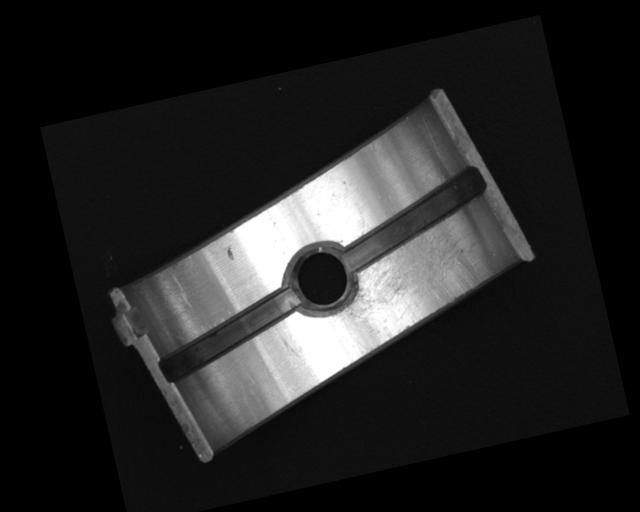bruise: (223, 245, 235, 263)
gap: (331, 163, 495, 272), (149, 287, 310, 385)
hole: (277, 234, 364, 323)
nick: (272, 322, 301, 362), (169, 266, 194, 311)
scratch: (315, 213, 498, 366)
